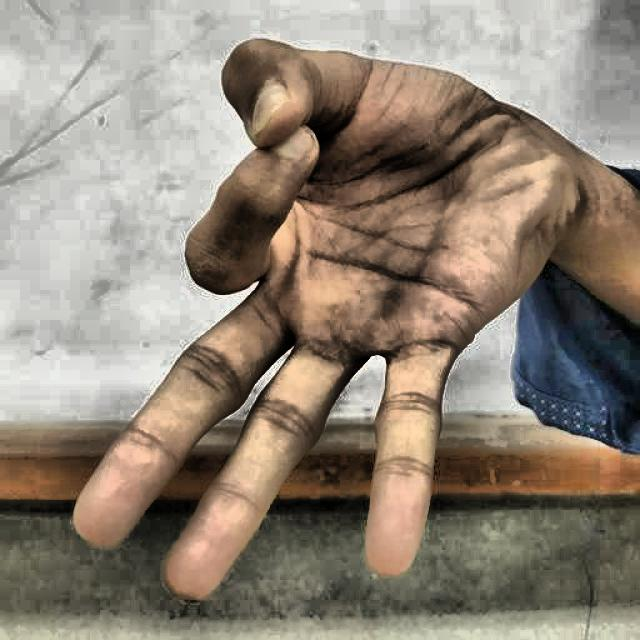Fa: (64, 28, 579, 627)
